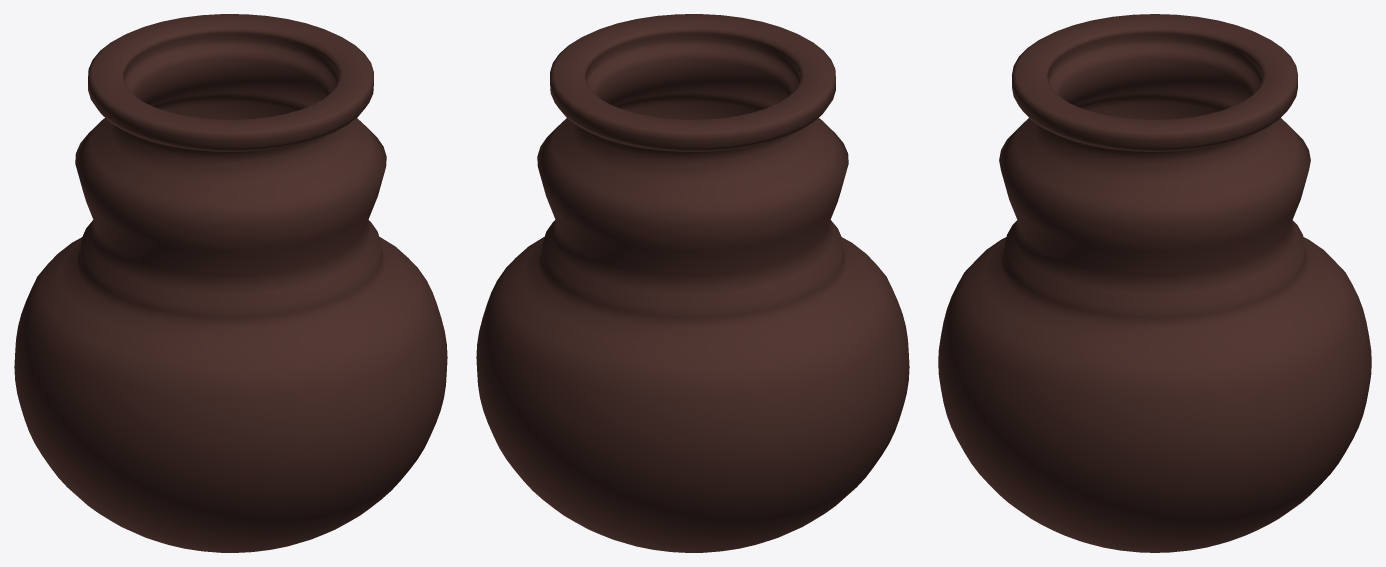
The model's file is Guci Tinggi.fbx.
The picture shows the model from 3 angles, left to right: view 1: azimuth 30°, elevation 25°; view 2: azimuth 150°, elevation 25°; view 3: azimuth 270°, elevation 25°; orthographic projection.
Visible parts, largest first — view 1: pSphere1; view 2: pSphere1; view 3: pSphere1.
Part boxes in pixels (x1,y1,x2,y2): pSphere1: (14,14,447,552); pSphere1: (476,14,909,552); pSphere1: (938,14,1371,552).
Size of the model in its own units: 7.26 by 8.47 by 7.26.
